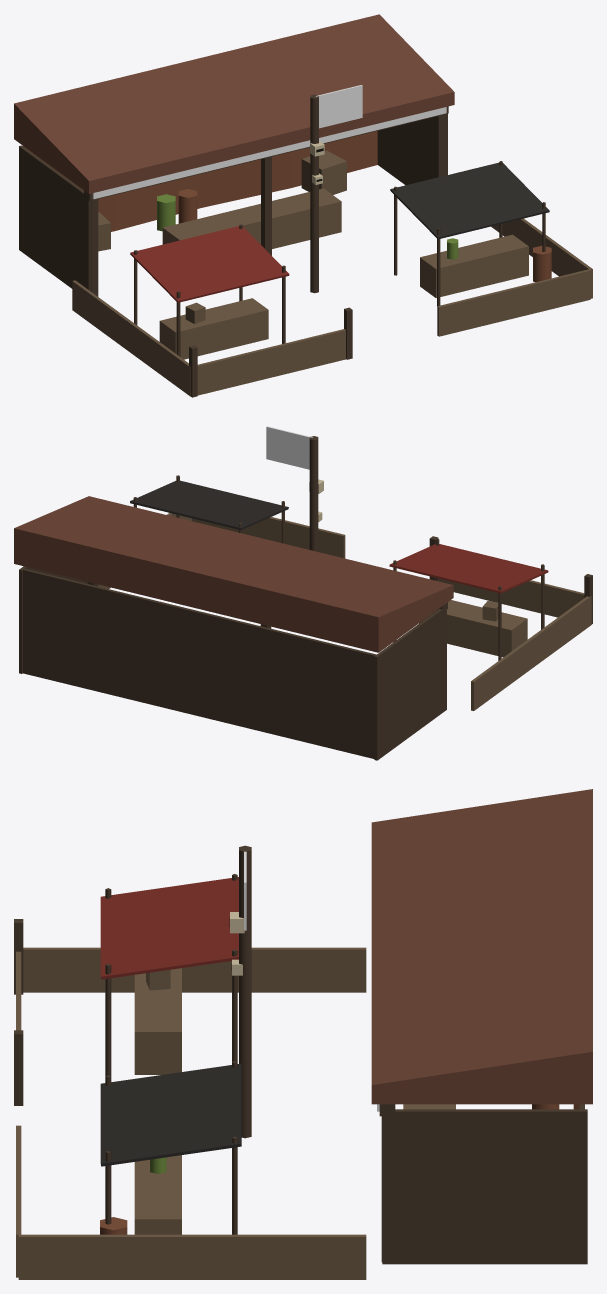
3 views of the same model, one above another, from view 1: azimuth 30°, elevation 25°; view 2: azimuth 150°, elevation 25°; view 3: azimuth 270°, elevation 25° (orthographic). The views are drawn at different scales.
Parts seen in each view (by area): view 1: raider_building_market; view 2: raider_building_market; view 3: raider_building_market.
Part boxes in pixels (<box>): raider_building_market: <box>14,14,592,397</box>; raider_building_market: <box>14,426,592,760</box>; raider_building_market: <box>14,789,592,1279</box>.
Size of the model in its own units: 13 by 6 by 10.99.
